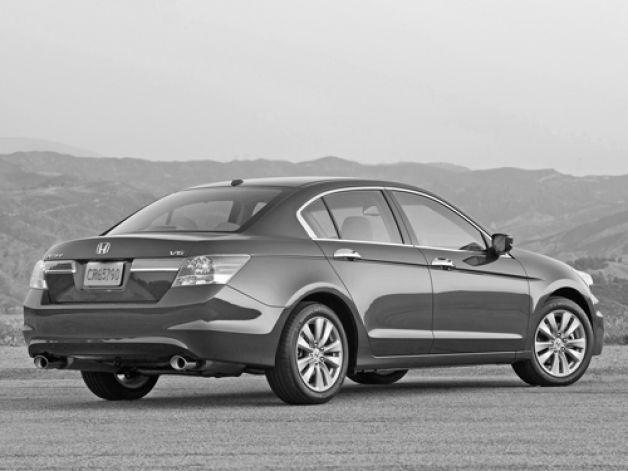car: (22, 176, 604, 406)
